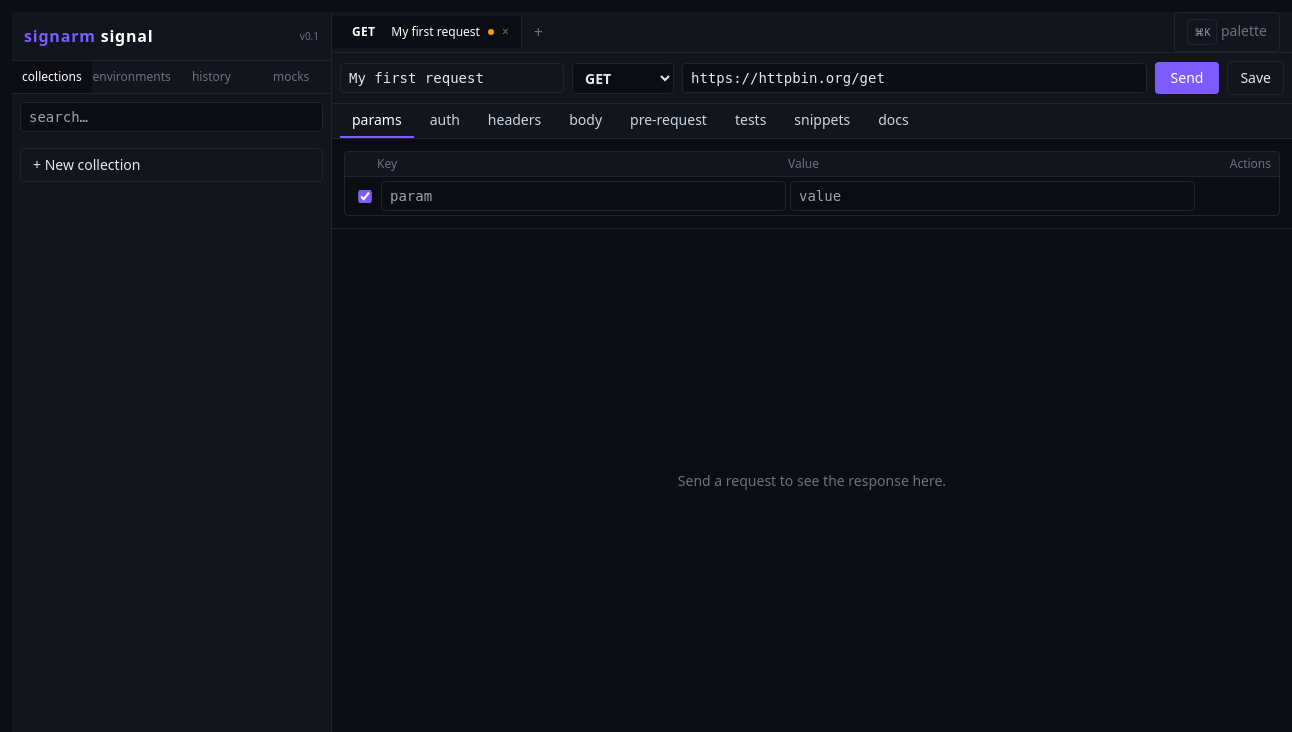
request tabs › switching to headers and body renders the right UI
Check: the button "Send" is shown, box [1155,62,1220,94]
Click the button "headers": (514, 121) [476,104,553,138]
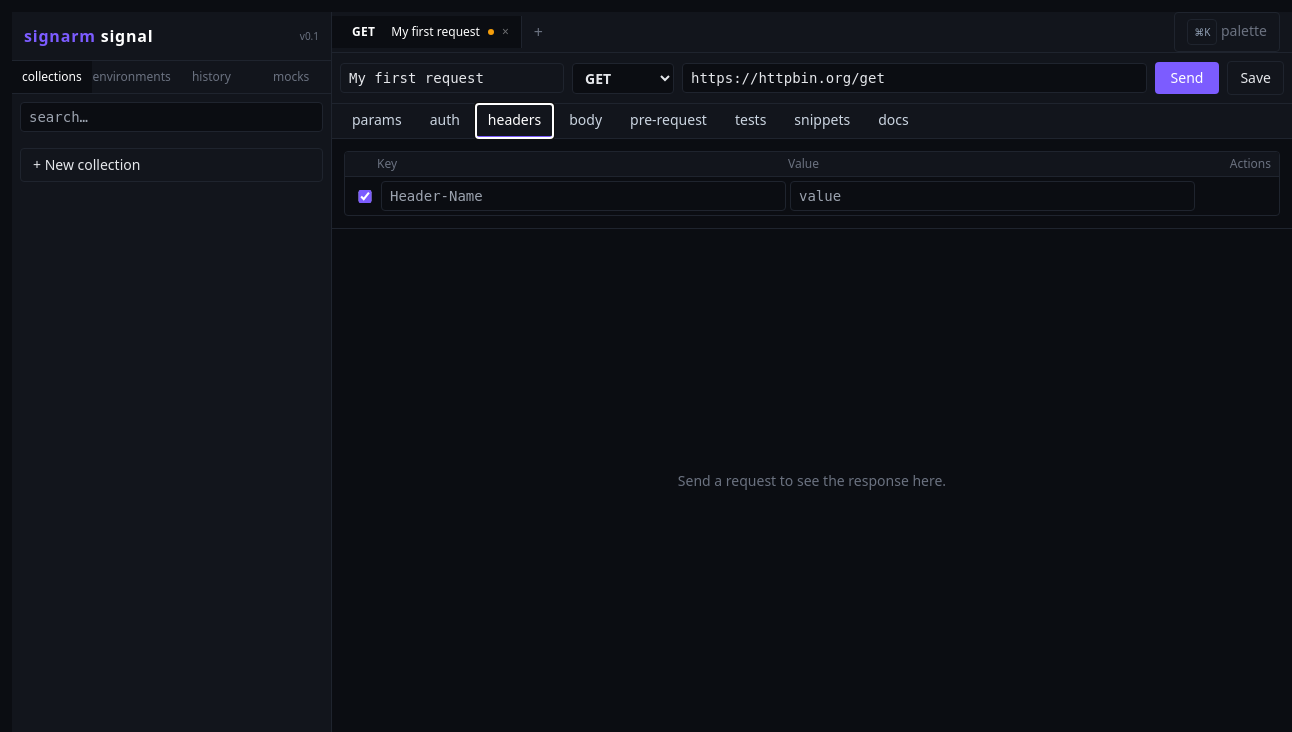
Check: the field with placeholder "Header-Name" is shown, box [381,181,786,211]
Click the button "body": (586, 121) [557,104,614,138]
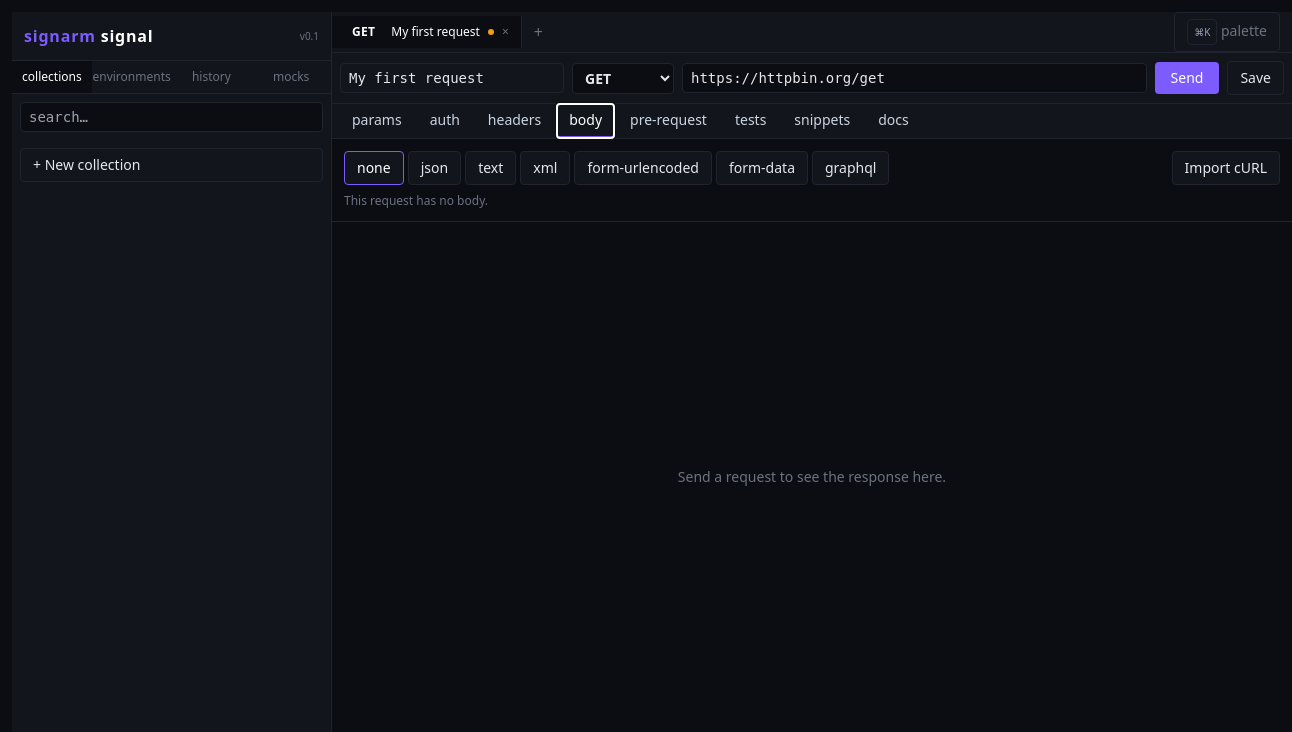
Check: the button "json" is shown, box [408,151,461,185]
Check: the button "form-urlencoded" is shown, box [574,151,712,185]
